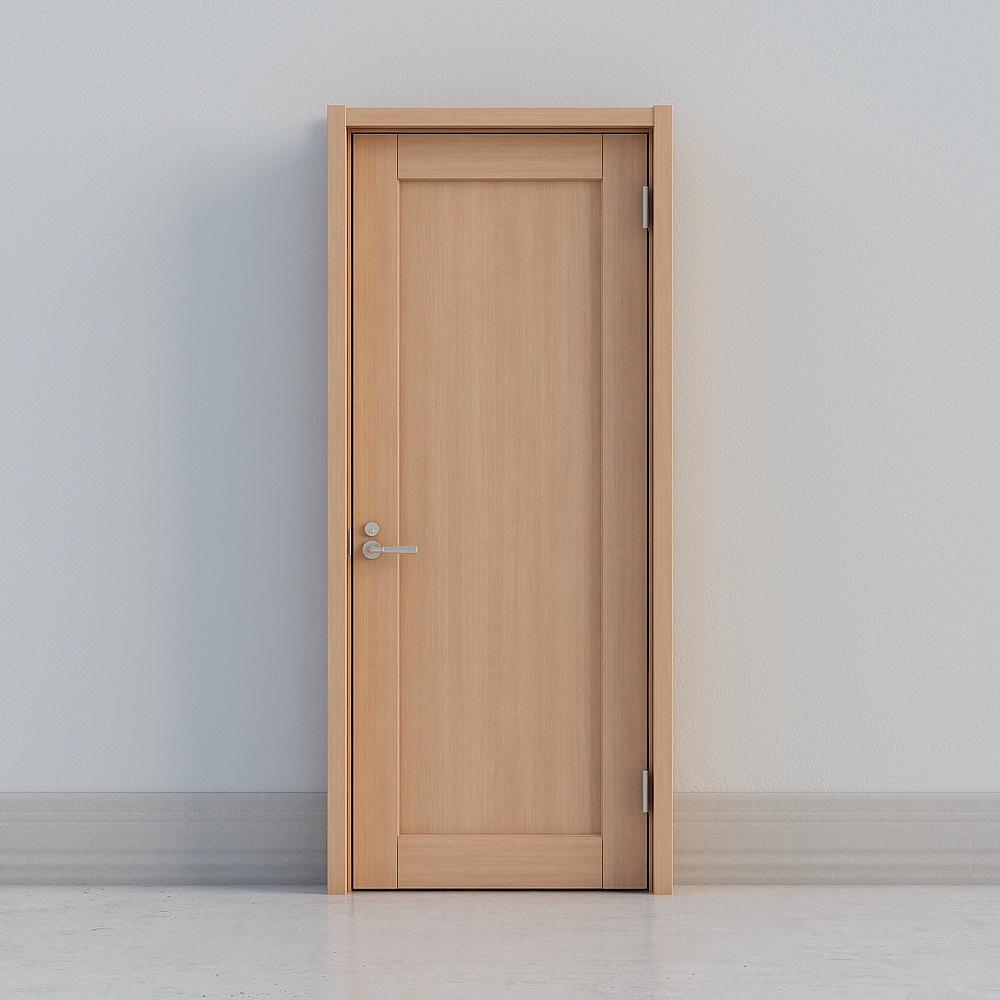door: (355, 126, 645, 897)
